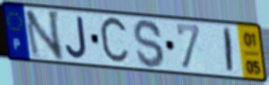7: (175, 22, 202, 72)
C: (98, 14, 132, 67)
I: (223, 26, 235, 75)
J: (64, 15, 89, 61)
N: (22, 9, 65, 62)
S: (131, 17, 166, 70)
